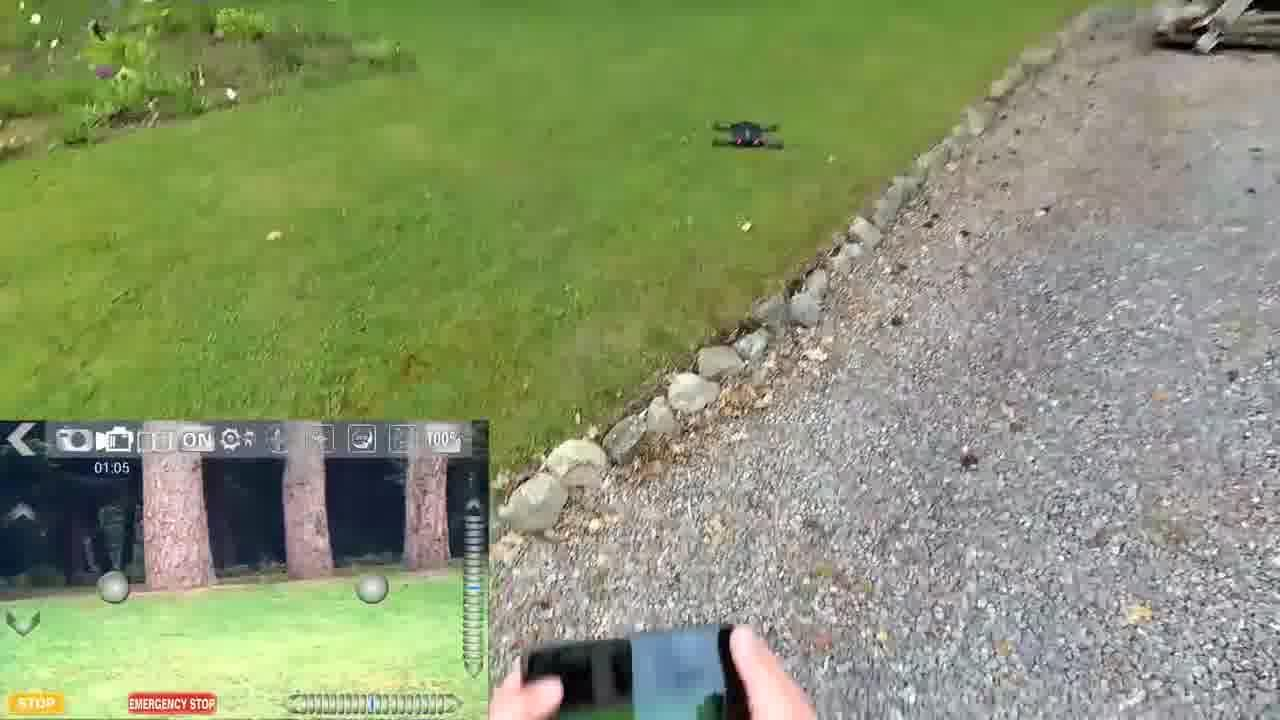drone: (700, 108, 793, 162)
